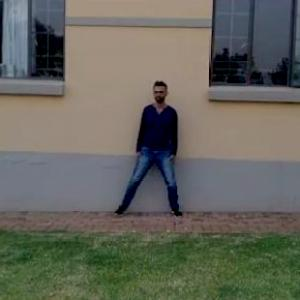follow: (138, 79, 179, 220)
